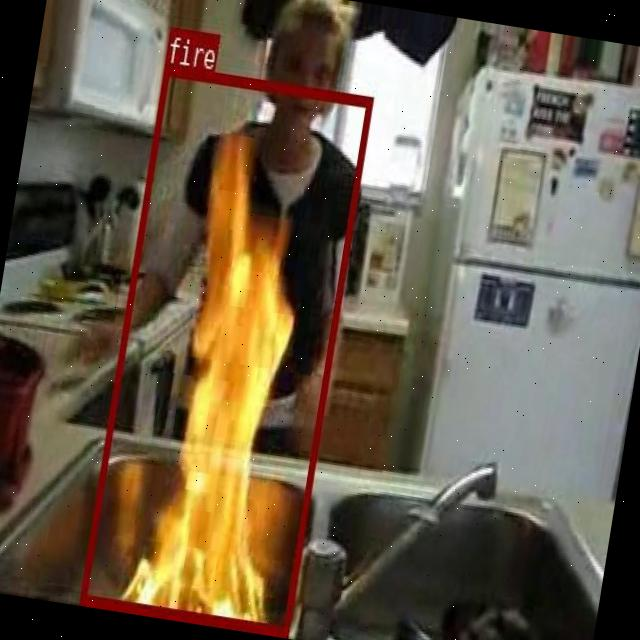fire: (80, 62, 372, 634)
